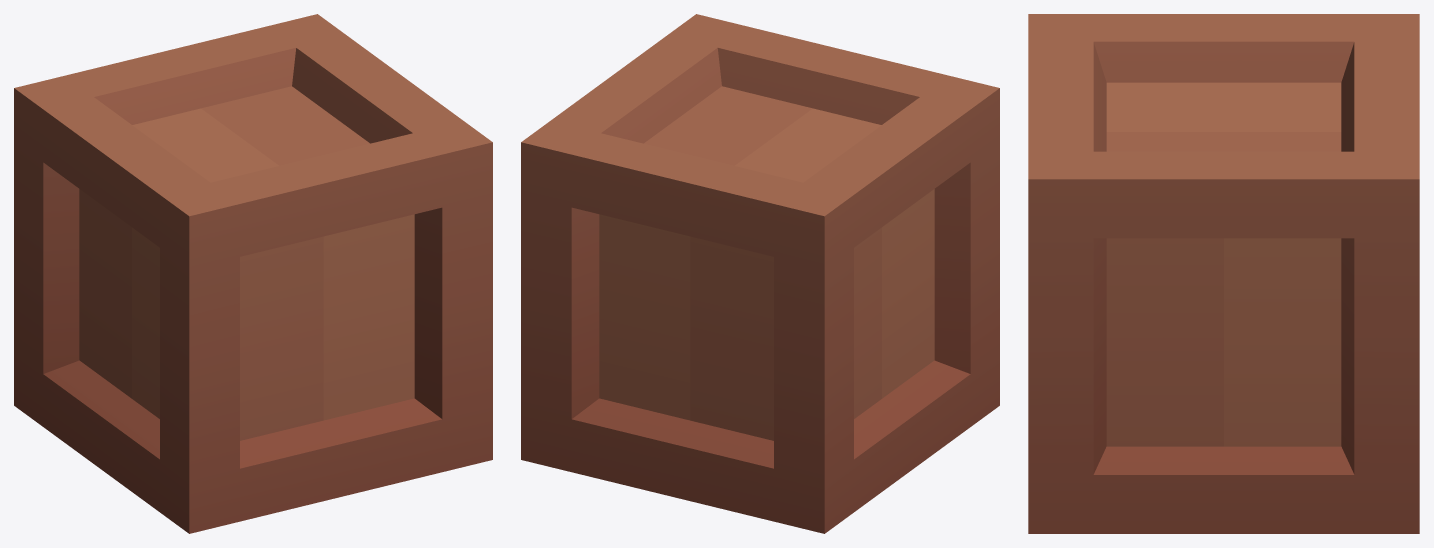
The model's file is crate.glb.
The picture shows the model from 3 angles, left to right: view 1: azimuth 30°, elevation 25°; view 2: azimuth 150°, elevation 25°; view 3: azimuth 270°, elevation 25°; orthographic projection. The views are drawn at different scales.
Parts seen in each view (by area): view 1: crate_A_big; view 2: crate_A_big; view 3: crate_A_big.
Part boxes in pixels (left/top/right/bottom): crate_A_big: left=14, top=14, right=492, bottom=533; crate_A_big: left=521, top=14, right=999, bottom=533; crate_A_big: left=1028, top=14, right=1419, bottom=533.
Size of the model in its own units: 0.21 by 0.21 by 0.21.
1 material, 1 textured.
